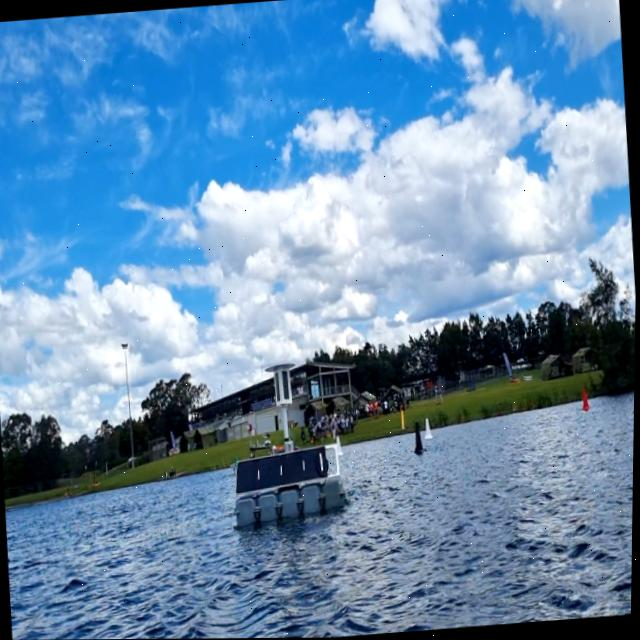led: (280, 368, 293, 402), (275, 371, 283, 402)
